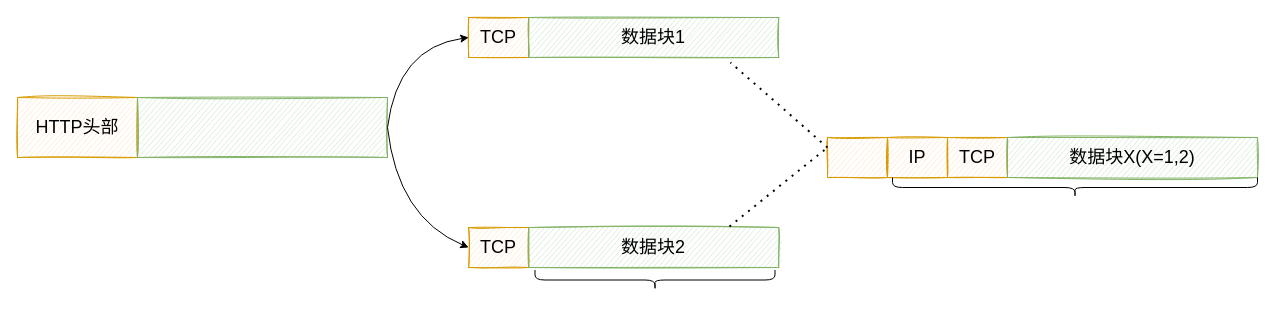
Image size: 1275x336. Some labels were removed from this diagram. The shapes that lost their labels are listed below. From the top down, each one's box as (x1, y1, x2, y2) in pixels, then its label:
(136, 96, 388, 158): 消息体
(826, 136, 888, 178): MAC
(892, 176, 1258, 198): MTU长度
(534, 269, 775, 290): MSS长度
